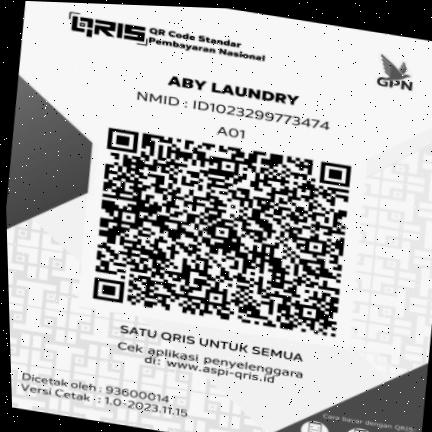Qris-Positioning: (6, 1, 432, 432)
